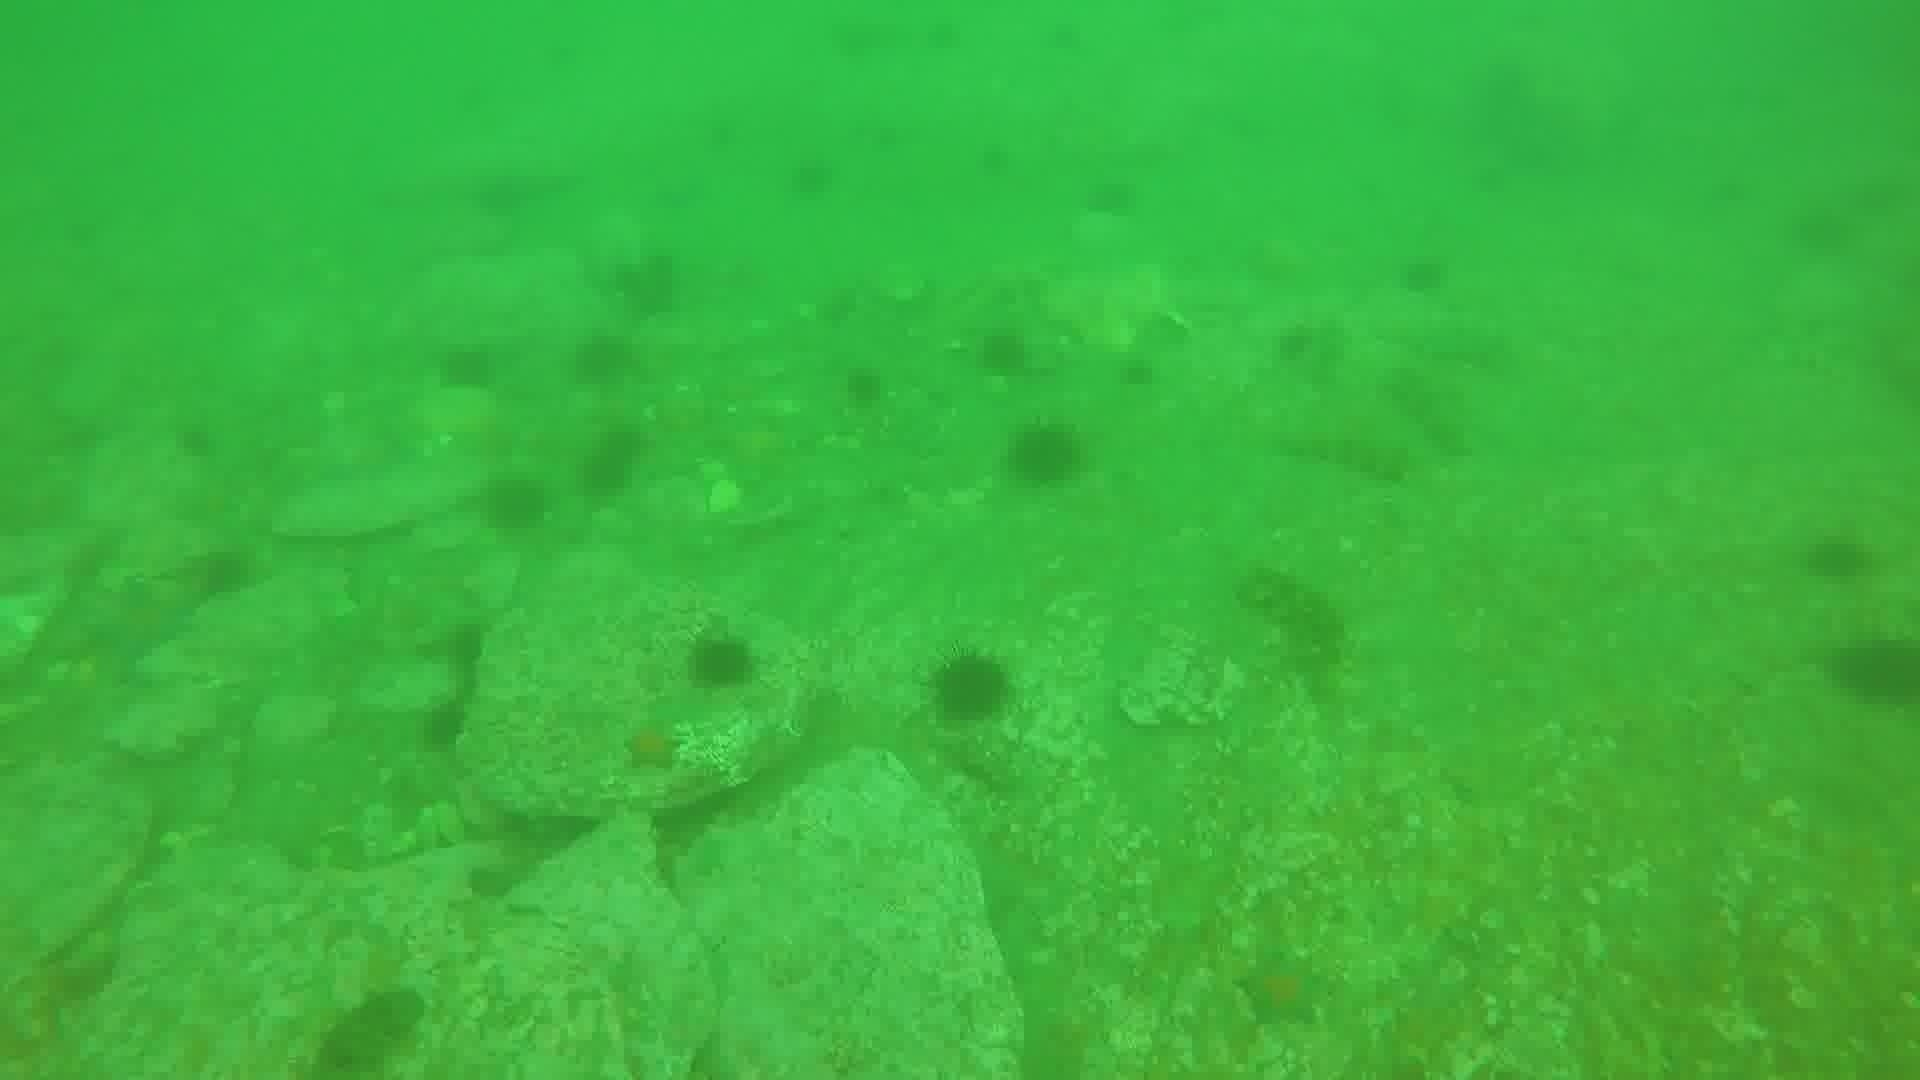echinus: (1828, 629, 1917, 713), (924, 646, 1015, 728), (1002, 418, 1088, 491), (608, 247, 687, 320), (575, 422, 647, 502), (682, 628, 761, 695), (475, 471, 554, 538), (1271, 316, 1349, 380), (567, 328, 641, 392), (1801, 527, 1876, 588), (187, 545, 258, 605), (433, 339, 502, 398), (971, 323, 1035, 382), (413, 695, 473, 757), (1081, 171, 1143, 223), (783, 152, 840, 203), (1395, 251, 1452, 301), (837, 363, 891, 413), (1116, 351, 1162, 393)
holothurian: (1234, 560, 1356, 684), (309, 982, 430, 1073), (1275, 419, 1416, 487)
starfish: (79, 576, 202, 669), (1232, 949, 1331, 1031), (618, 716, 687, 775)
